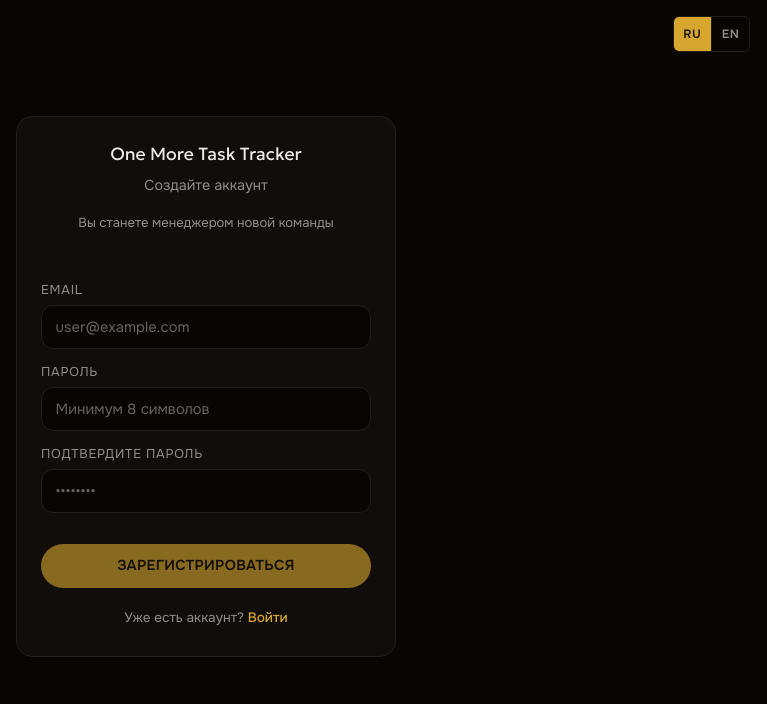
Test: RegisterPage › shows duplicate email error on 409 response
Step 1. Type "existing@example.com" into the field labelled "Email" → x=206, y=327, box [41,305,371,349]
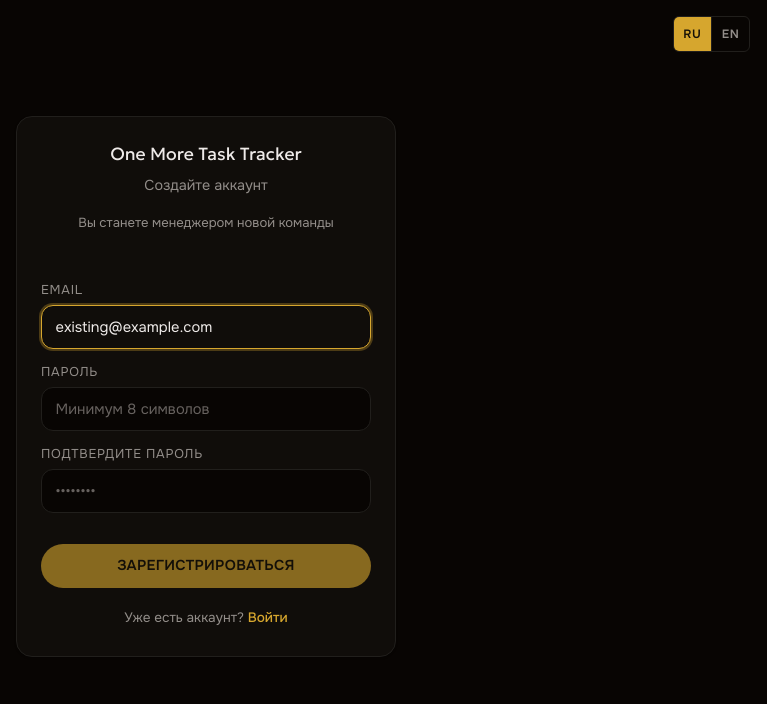
Step 2. Type "password123" into the password field labelled "Пароль" → x=206, y=409, box [41,387,371,431]
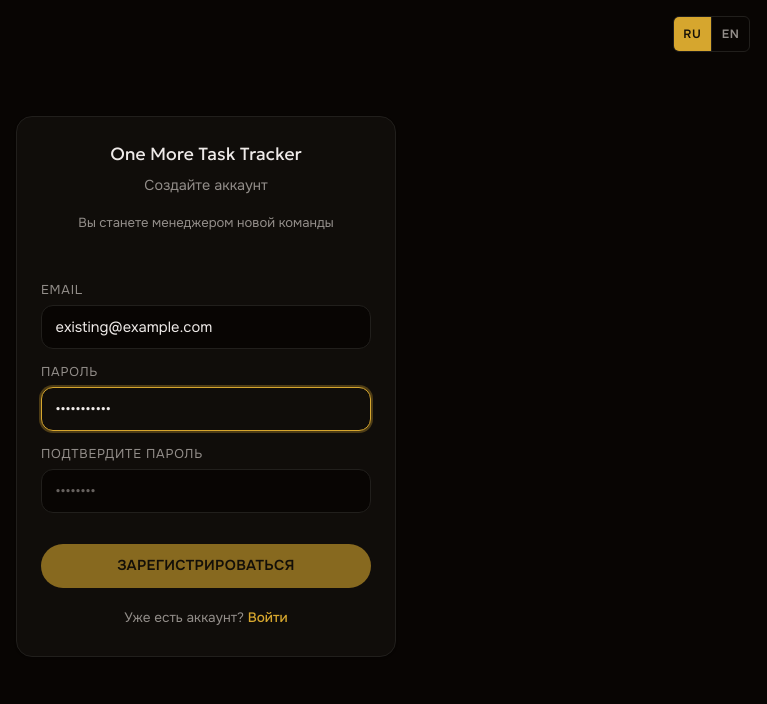
Step 3. Type "password123" into the password field labelled "Подтвердите пароль" → x=206, y=491, box [41,469,371,513]
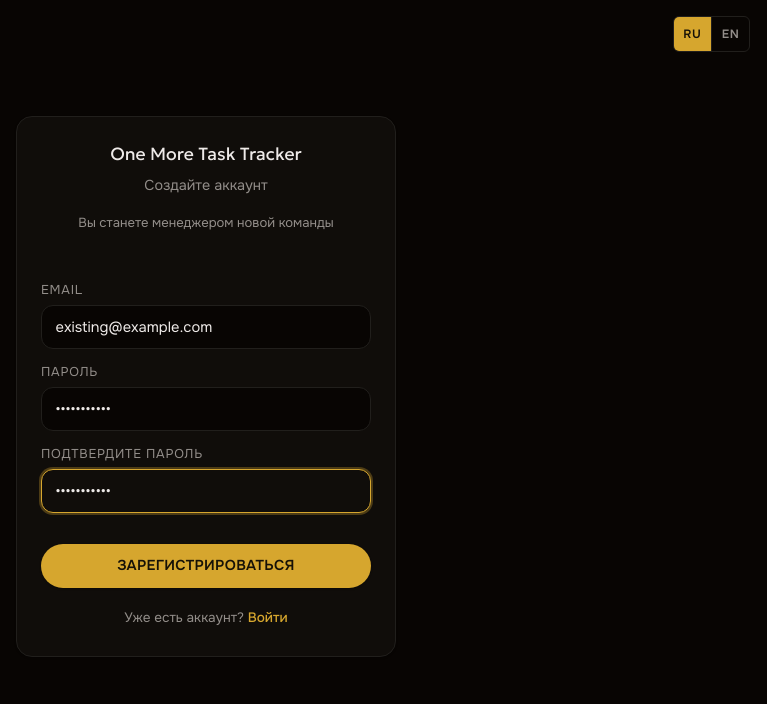
Step 4. Click the button "Зарегистрироваться" → x=206, y=566, box [41,544,371,588]
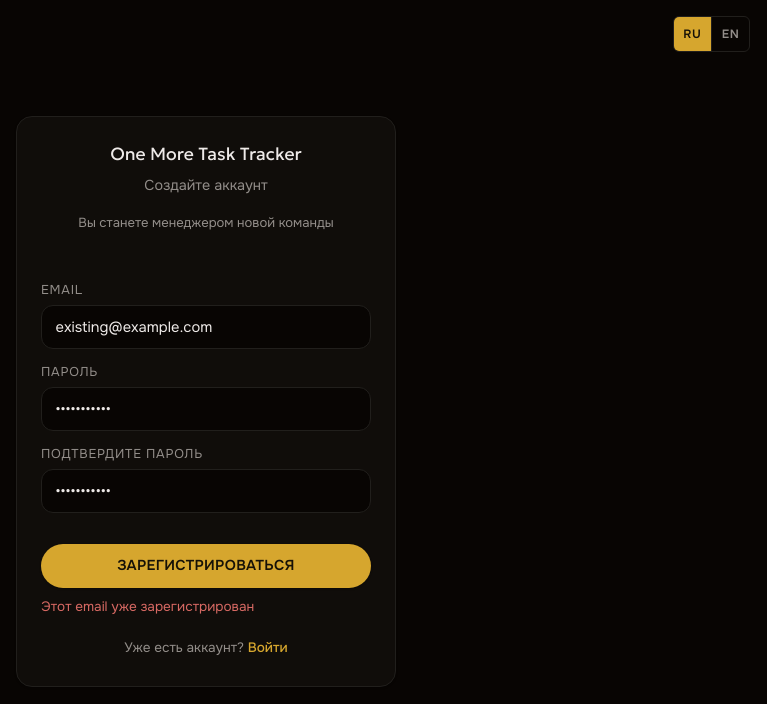
Result: the text "Этот email уже зарегистрирован" is shown at [41,598,254,615]
